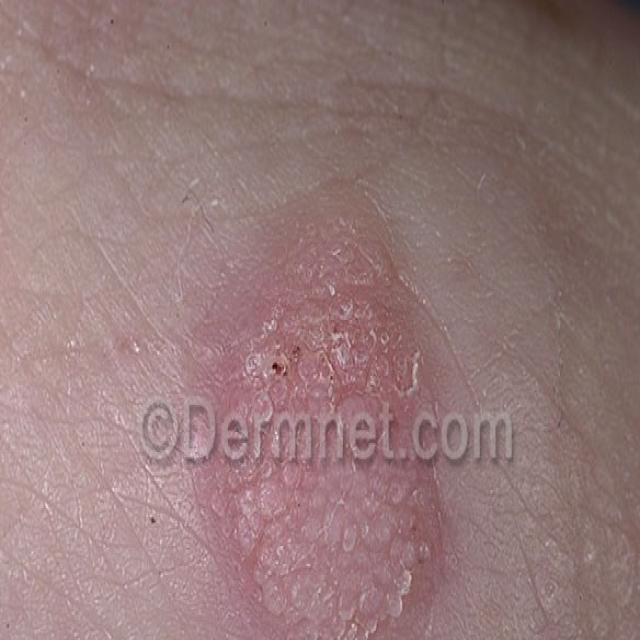Warts: (211, 219, 453, 640)
